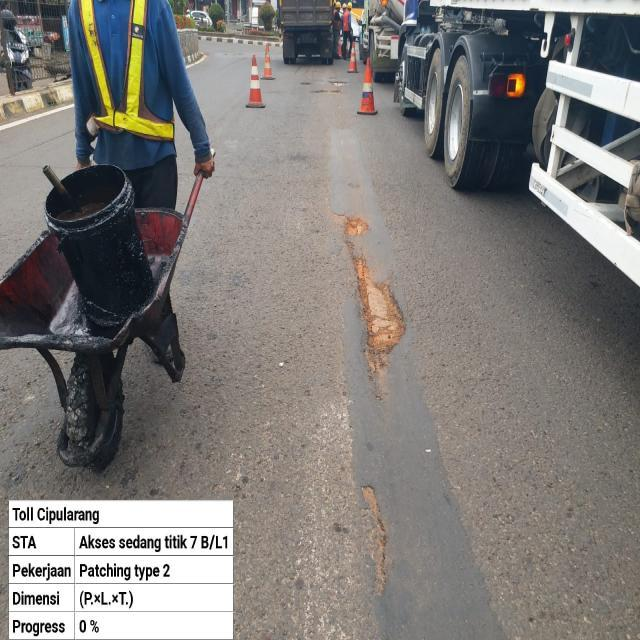Buraco: (344, 252, 412, 381), (354, 483, 392, 599), (335, 213, 373, 240), (308, 88, 345, 97), (329, 80, 350, 88), (298, 81, 312, 87)
